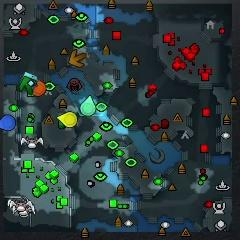p1: (0, 114, 17, 131)
p2: (81, 95, 95, 116)
p4: (57, 112, 77, 127)
p5: (32, 80, 46, 96)
x3: (20, 71, 38, 82)
x4: (19, 76, 36, 94)
x5: (69, 49, 87, 67)
